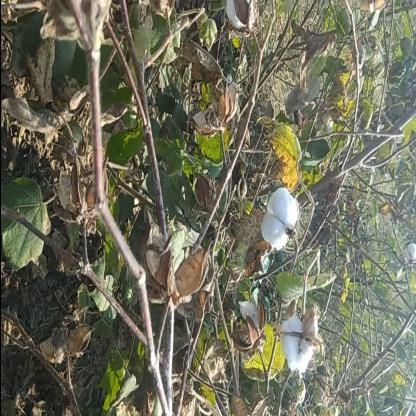cotton_ready: (247, 153, 305, 269), (268, 285, 332, 375)
